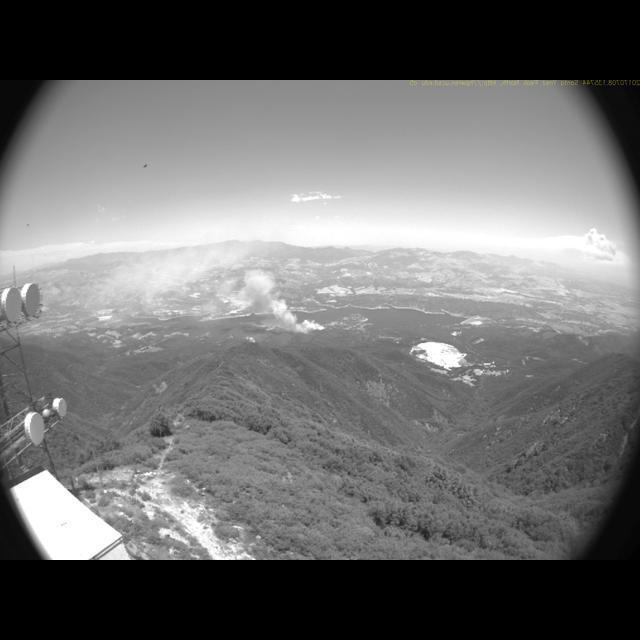Smoke: (107, 240, 334, 336)
